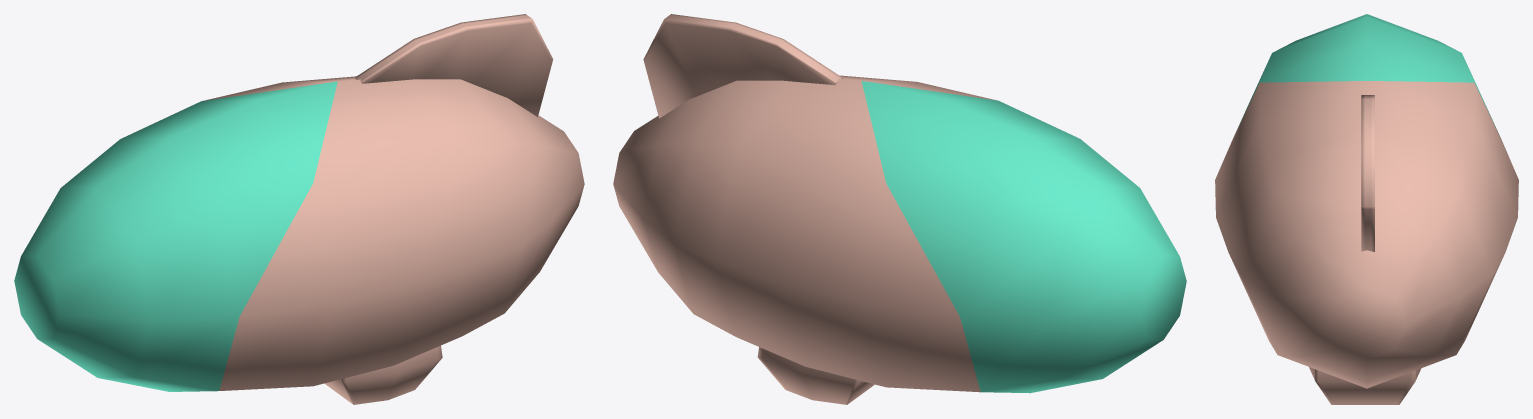
The model's file is _irship.fbx.
The picture shows the model from 3 angles, left to right: view 1: azimuth 30°, elevation 25°; view 2: azimuth 150°, elevation 25°; view 3: azimuth 270°, elevation 25°; orthographic projection. The views are drawn at different scales.
Visible parts, largest first — view 1: Цилиндр.001; view 2: Цилиндр.001; view 3: Цилиндр.001.
Part boxes in pixels (x1=…): Цилиндр.001: x1=14, y1=14, x2=584, y2=404; Цилиндр.001: x1=613, y1=14, x2=1186, y2=404; Цилиндр.001: x1=1215, y1=14, x2=1518, y2=404.
Bounding box in the file's own units: 1190 × 721 × 620.
